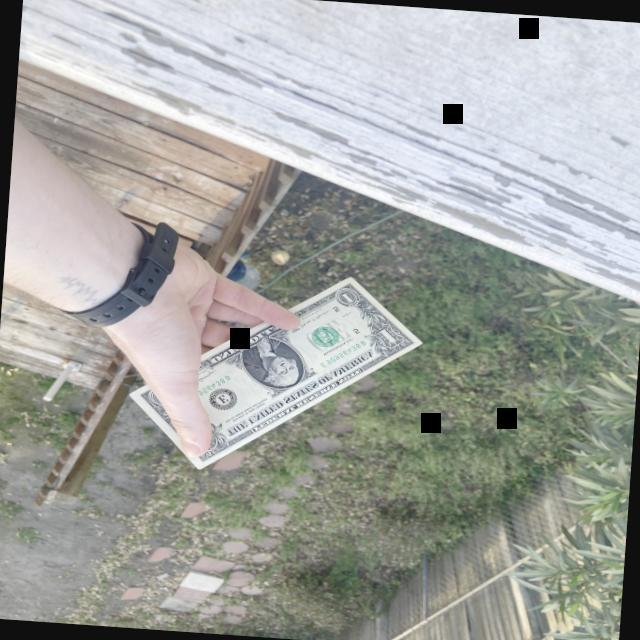one: (126, 275, 421, 468)
